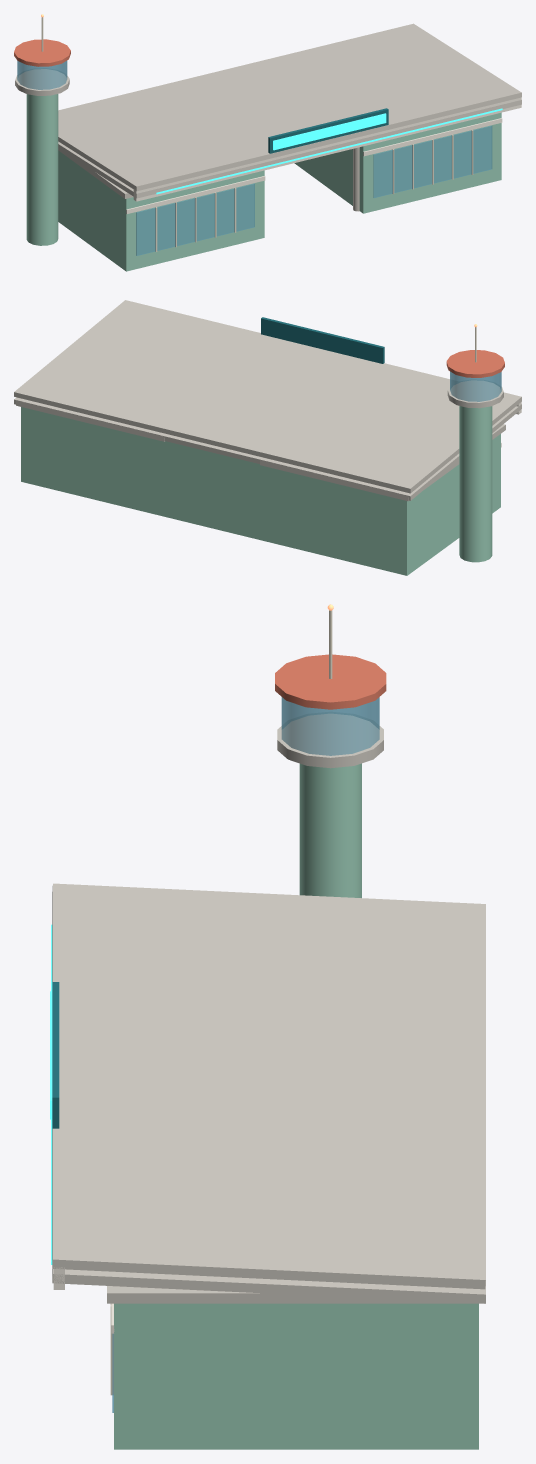
Rendered from airport_terminal.glb.
The picture shows the model from 3 angles, top to bottom: view 1: azimuth 30°, elevation 25°; view 2: azimuth 150°, elevation 25°; view 3: azimuth 270°, elevation 25°; orthographic projection. The views are drawn at different scales.
Parts seen in each view (by area): view 1: airport_terminal; view 2: airport_terminal; view 3: airport_terminal.
Boxes of the visible parts, x1,y1,x2,y2 form: airport_terminal: (14, 14, 521, 271); airport_terminal: (14, 300, 521, 575); airport_terminal: (50, 604, 485, 1449).
Bounding box in the file's own units: 44 × 21.74 × 19.1.
